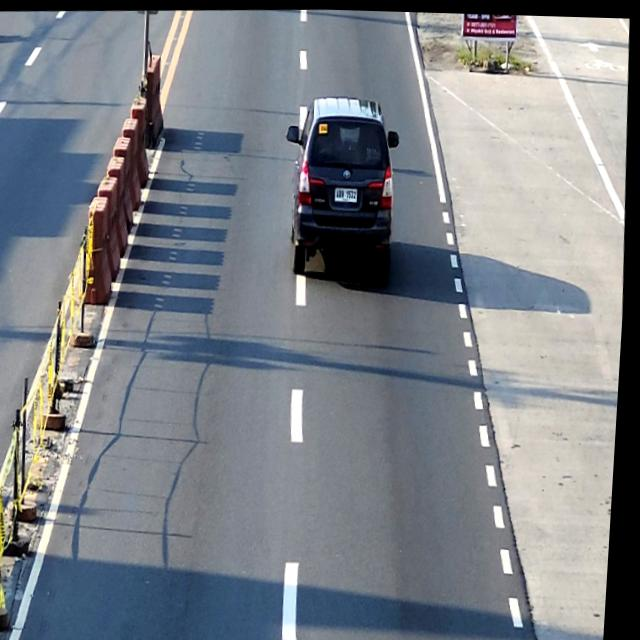Car: (280, 91, 407, 278)
License-Plate: (337, 185, 360, 199)
